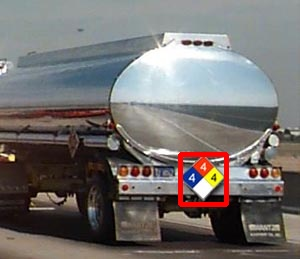nfpa: (180, 154, 226, 204)
